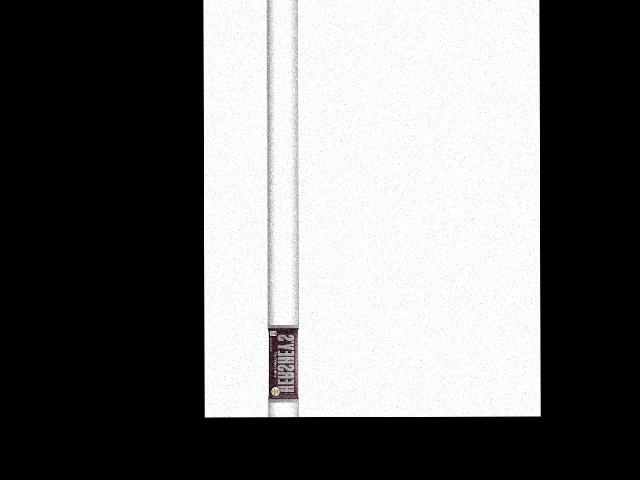chocolate: (264, 324, 297, 401)
